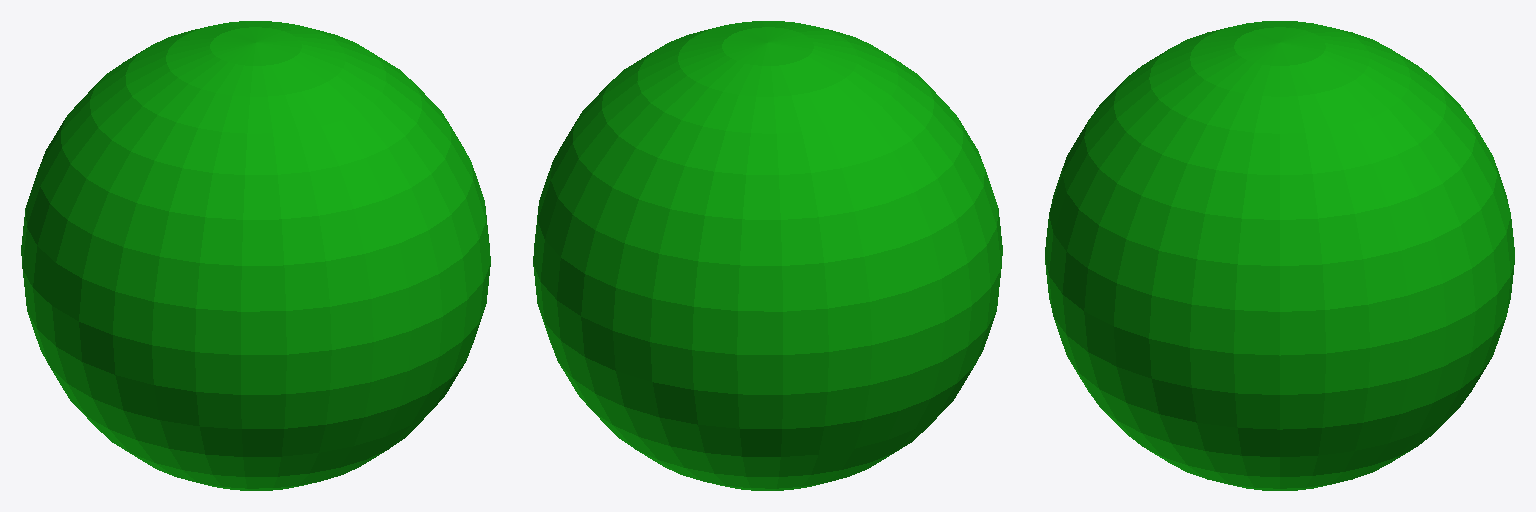
File: TrafficLight1Inactive.obj
The picture shows the model from 3 angles: view 1: azimuth 30°, elevation 25°; view 2: azimuth 150°, elevation 25°; view 3: azimuth 270°, elevation 25°; orthographic projection.
Visible parts, largest first — view 1: KugelGruen; view 2: KugelGruen; view 3: KugelGruen.
Boxes of the visible parts, x1,y1,x2,y2 form: KugelGruen: [21, 21, 490, 490]; KugelGruen: [533, 21, 1002, 490]; KugelGruen: [1045, 21, 1514, 490].
Size of the model in its own units: 66.59 by 66.59 by 66.59.